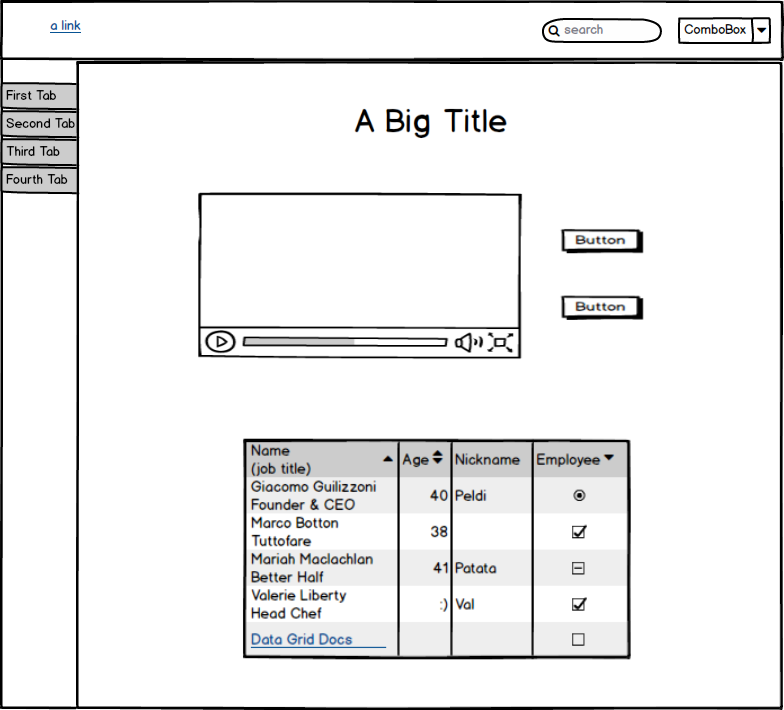button: (554, 224, 648, 259), (556, 293, 649, 322)
h1: (341, 103, 517, 144)
navlink: (40, 10, 85, 39)
search: (536, 12, 664, 48)
select_box: (673, 10, 774, 48)
sidebar: (1, 73, 78, 204)
table: (235, 434, 636, 664)
video: (191, 189, 531, 364)
